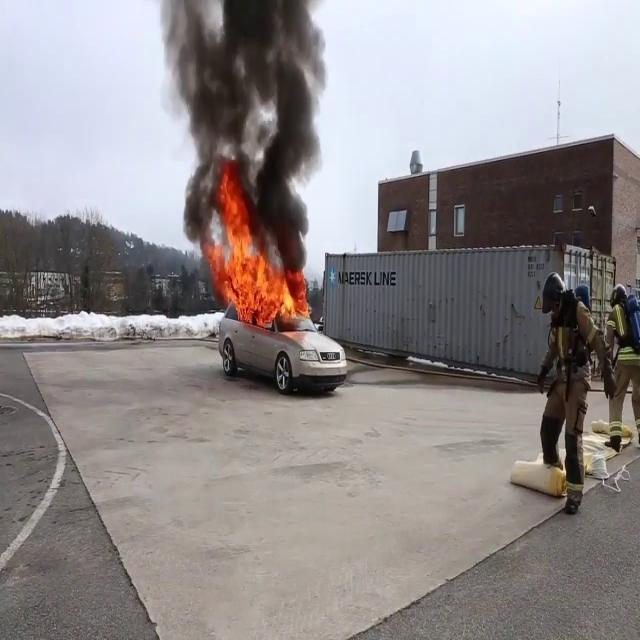Fire: (207, 184, 311, 332)
Smoke: (156, 0, 337, 244)
